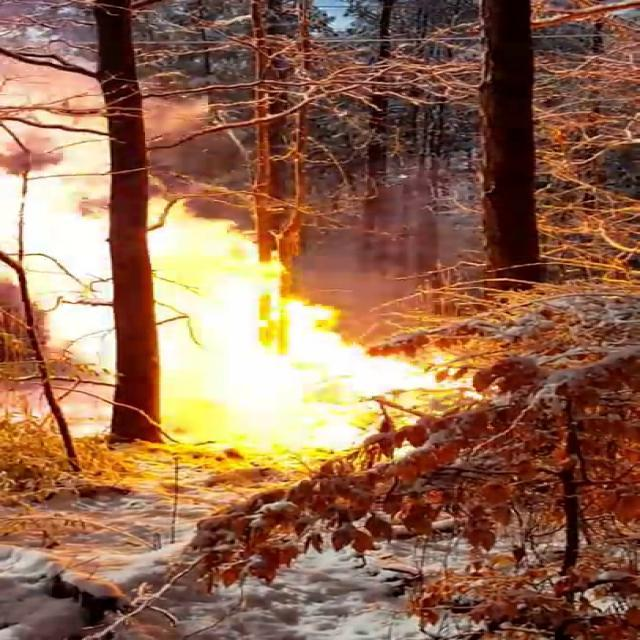Fire: (0, 84, 487, 487)
